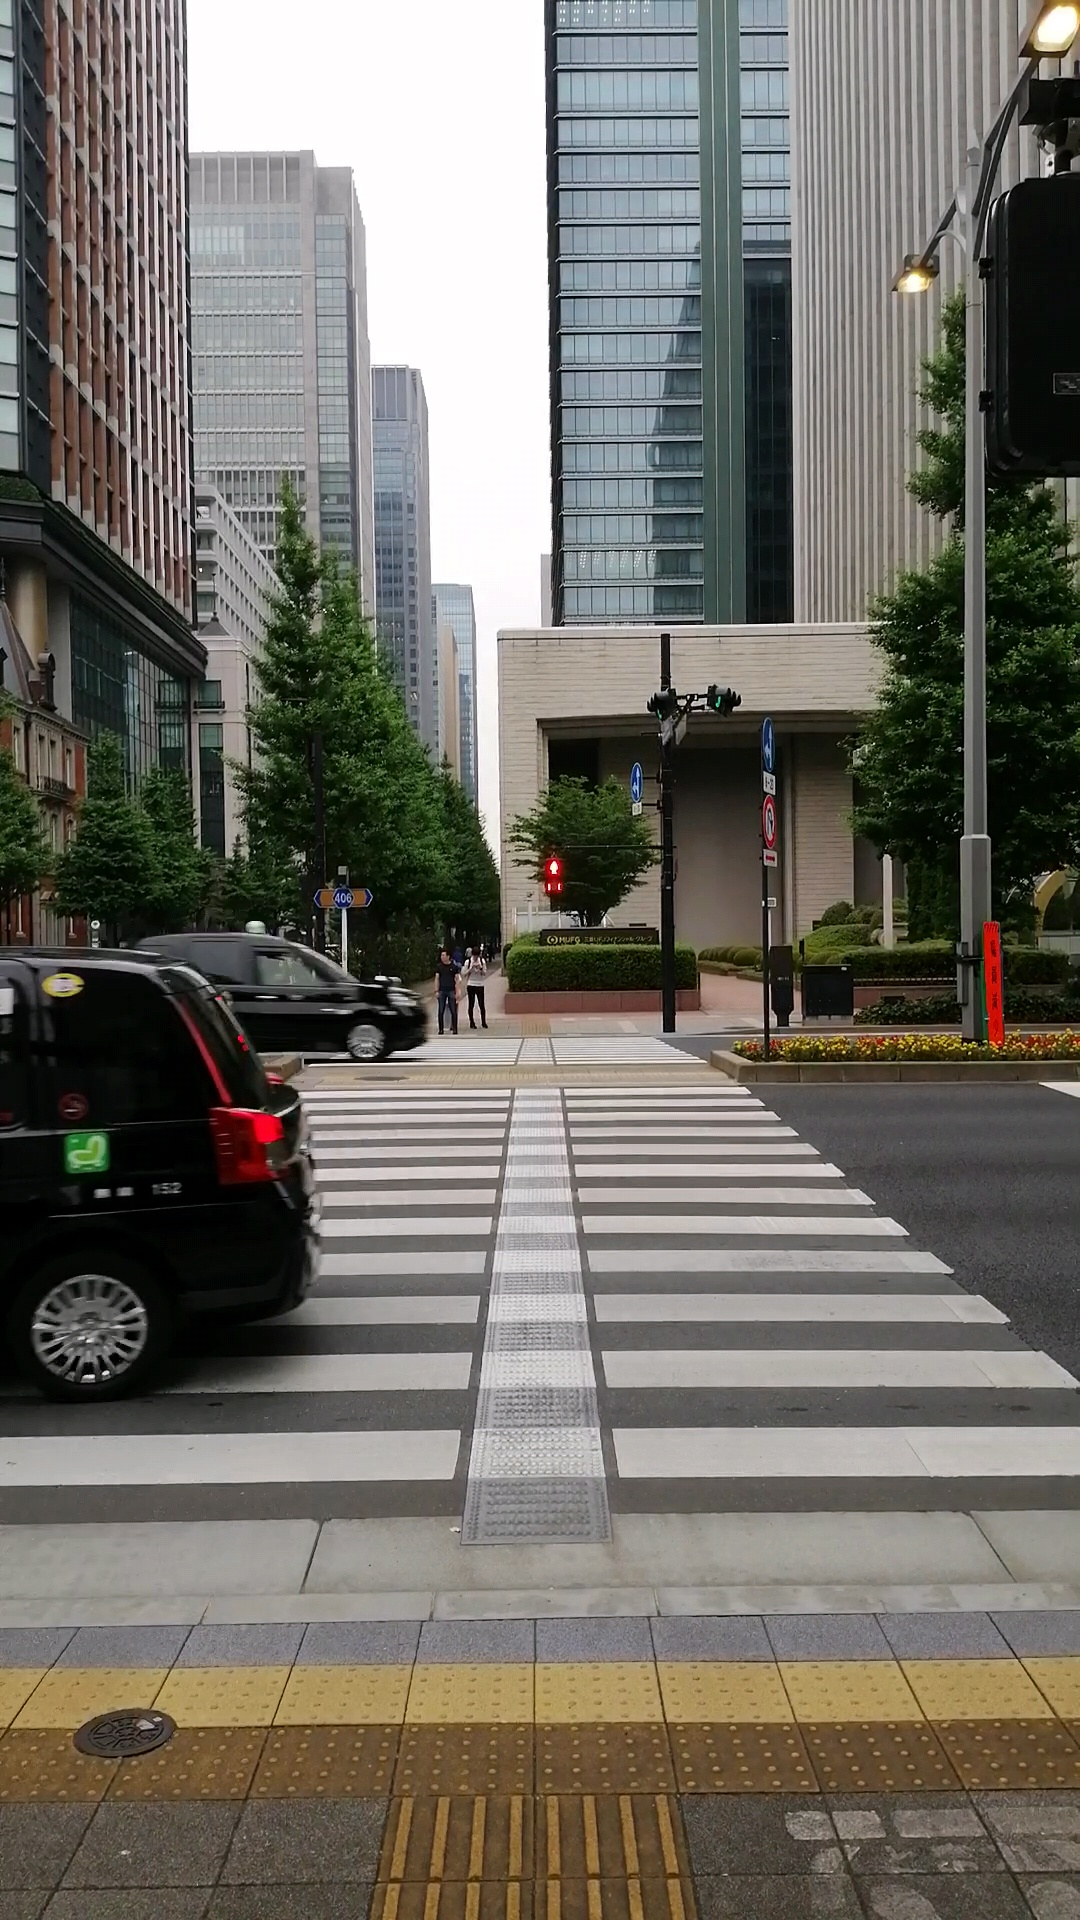red: (543, 856, 564, 895)
